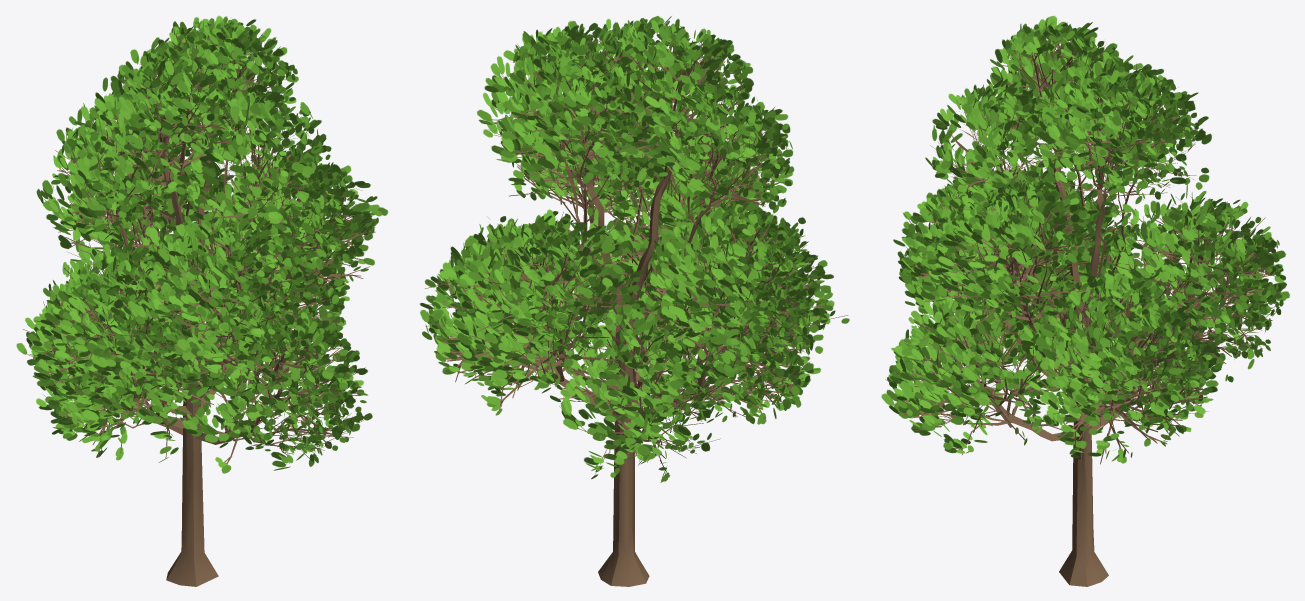
Rendered from stylized_tree.lod1.glb.
3 renders of one model, left to right at view 1: azimuth 30°, elevation 25°; view 2: azimuth 150°, elevation 25°; view 3: azimuth 270°, elevation 25°, orthographic. The views are drawn at different scales.
Visible parts, largest first — view 1: oak 01_leafes_Mat.001_0, oak 01.001_trunk_Mat.001_0; view 2: oak 01_leafes_Mat.001_0, oak 01.001_trunk_Mat.001_0; view 3: oak 01_leafes_Mat.001_0, oak 01.001_trunk_Mat.001_0.
Part boxes in pixels (x1,y1,x2,y2): oak 01_leafes_Mat.001_0: (16, 15, 388, 473); oak 01.001_trunk_Mat.001_0: (22, 33, 381, 586); oak 01_leafes_Mat.001_0: (420, 16, 849, 482); oak 01.001_trunk_Mat.001_0: (425, 30, 848, 586); oak 01_leafes_Mat.001_0: (881, 15, 1289, 463); oak 01.001_trunk_Mat.001_0: (885, 29, 1281, 586).
Bounding box in the file's own units: 0.3667 × 0.5657 × 0.3931.
Materials: 2 (1 with a texture image).
